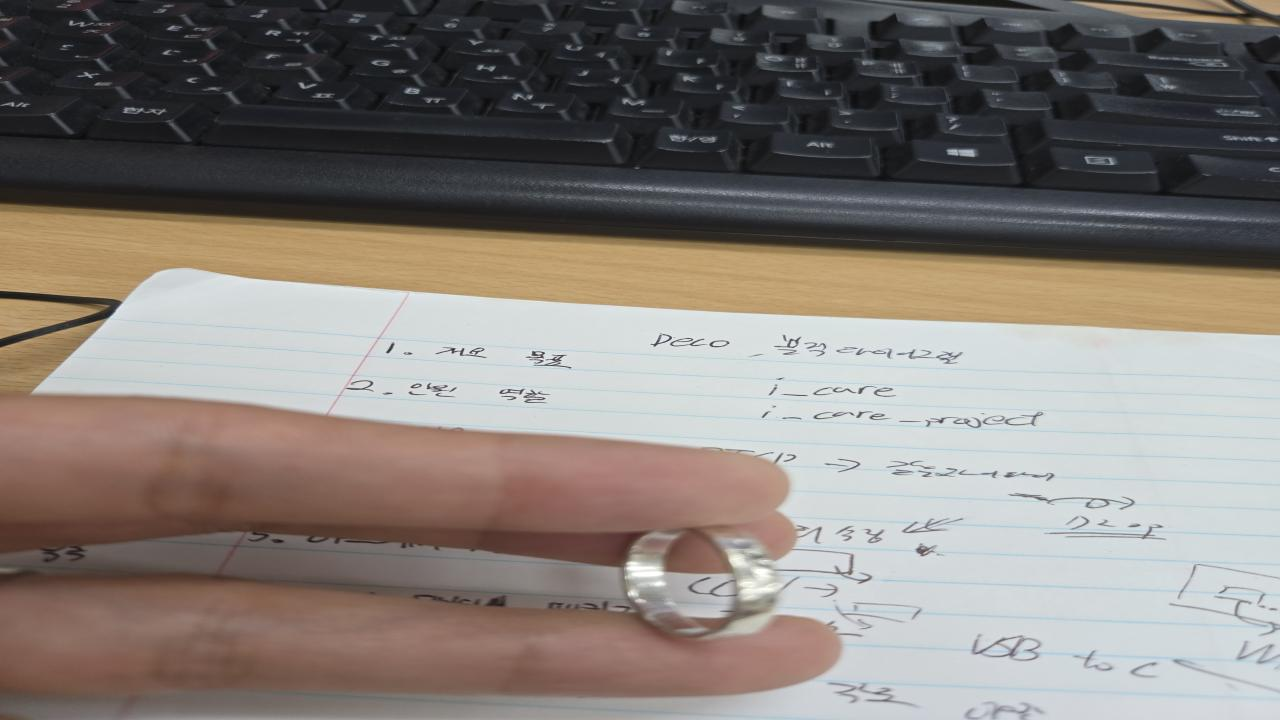ring: (618, 525, 780, 643)
